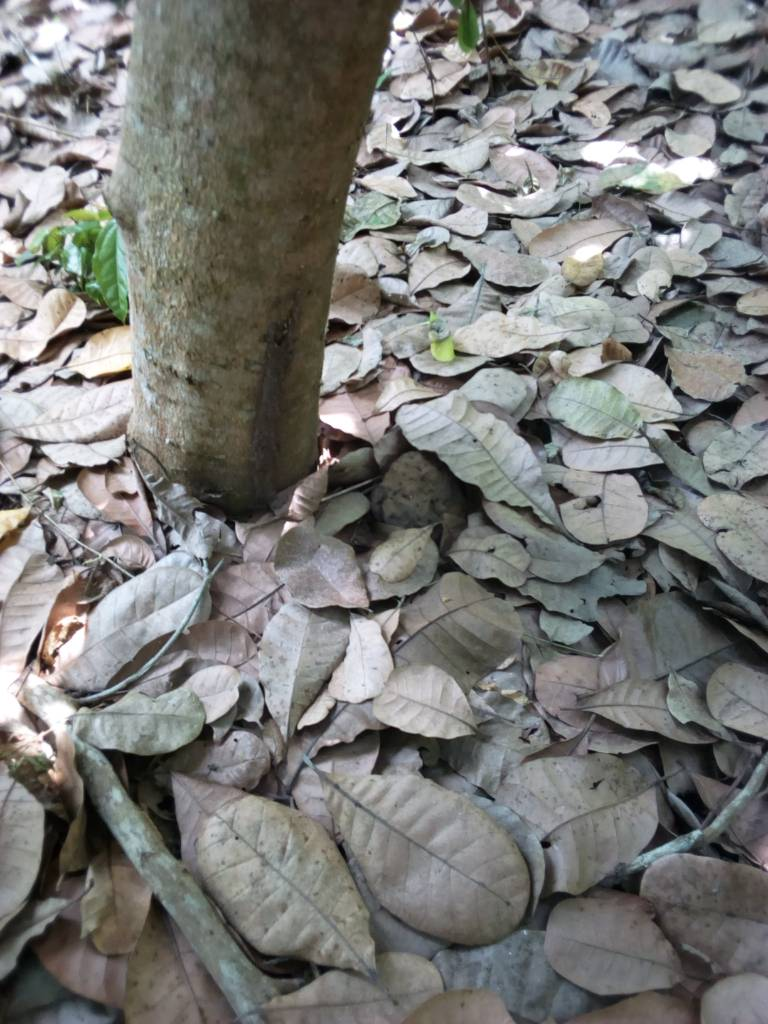Termites: (246, 294, 304, 505)
